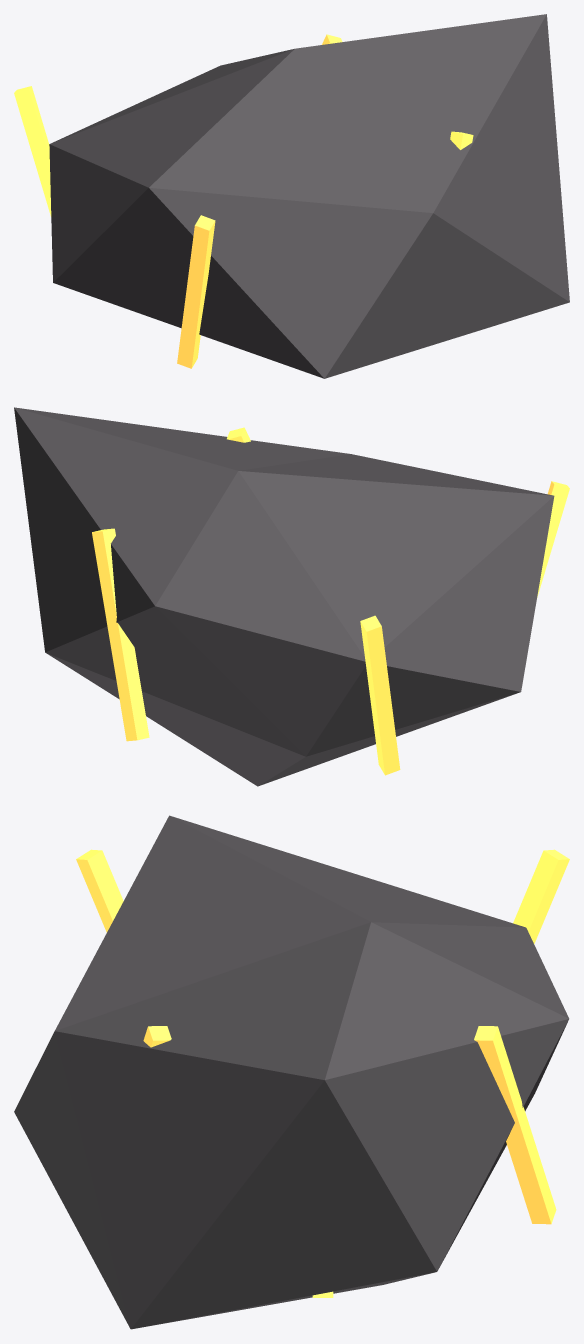
Rendered from lava_rock.glb.
The picture shows the model from 3 angles, top to bottom: view 1: azimuth 30°, elevation 25°; view 2: azimuth 150°, elevation 25°; view 3: azimuth 270°, elevation 25°; orthographic projection. The views are drawn at different scales.
Visible parts, largest first — view 1: lava_rock; view 2: lava_rock; view 3: lava_rock.
Part boxes in pixels (x1,y1,x2,y2): lava_rock: (14, 14, 569, 378); lava_rock: (14, 407, 569, 786); lava_rock: (14, 815, 569, 1329).
Size of the model in its own units: 2.5 by 1.43 by 1.91.
